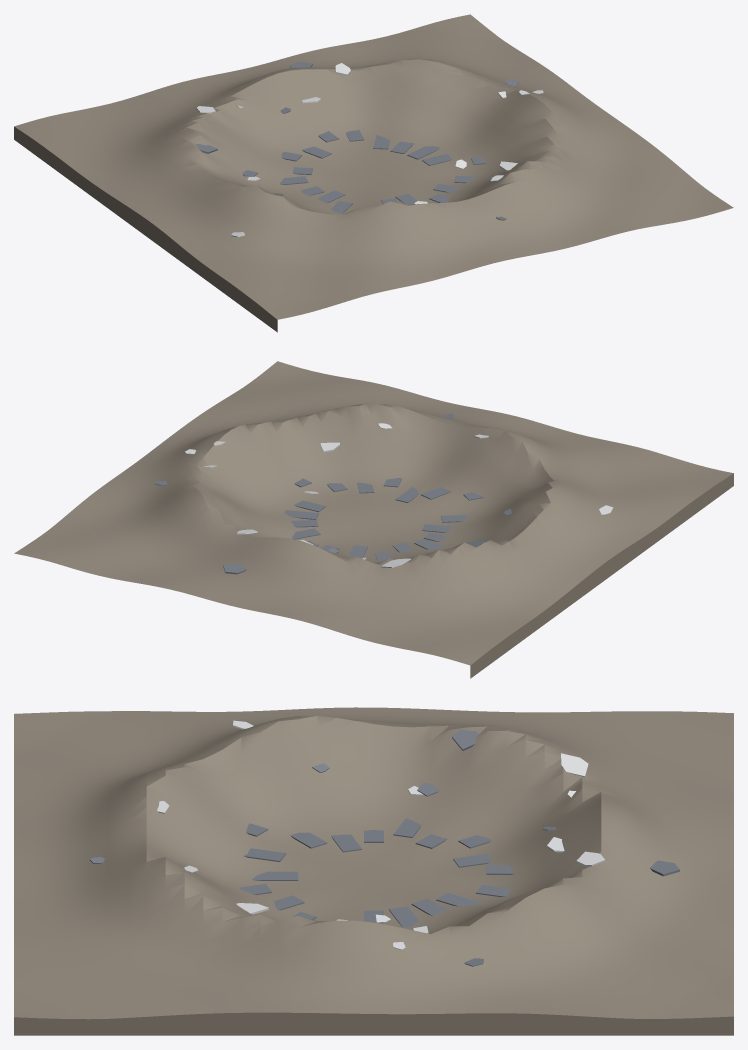
The model's file is ufo-crash-site-and-recovery-facility-impact-crater-6d47c2c8__17336.glb.
The picture shows the model from 3 angles, top to bottom: view 1: azimuth 30°, elevation 25°; view 2: azimuth 150°, elevation 25°; view 3: azimuth 270°, elevation 25°; orthographic projection. The views are drawn at different scales.
Visible parts, largest first — view 1: impact-crater; view 2: impact-crater; view 3: impact-crater.
Boxes of the visible parts, left/top/right/bottom form: impact-crater: left=14, top=14, right=733, bottom=332; impact-crater: left=14, top=361, right=733, bottom=678; impact-crater: left=14, top=707, right=733, bottom=1035.
Bounding box in the file's own units: 18 × 1.87 × 18.
